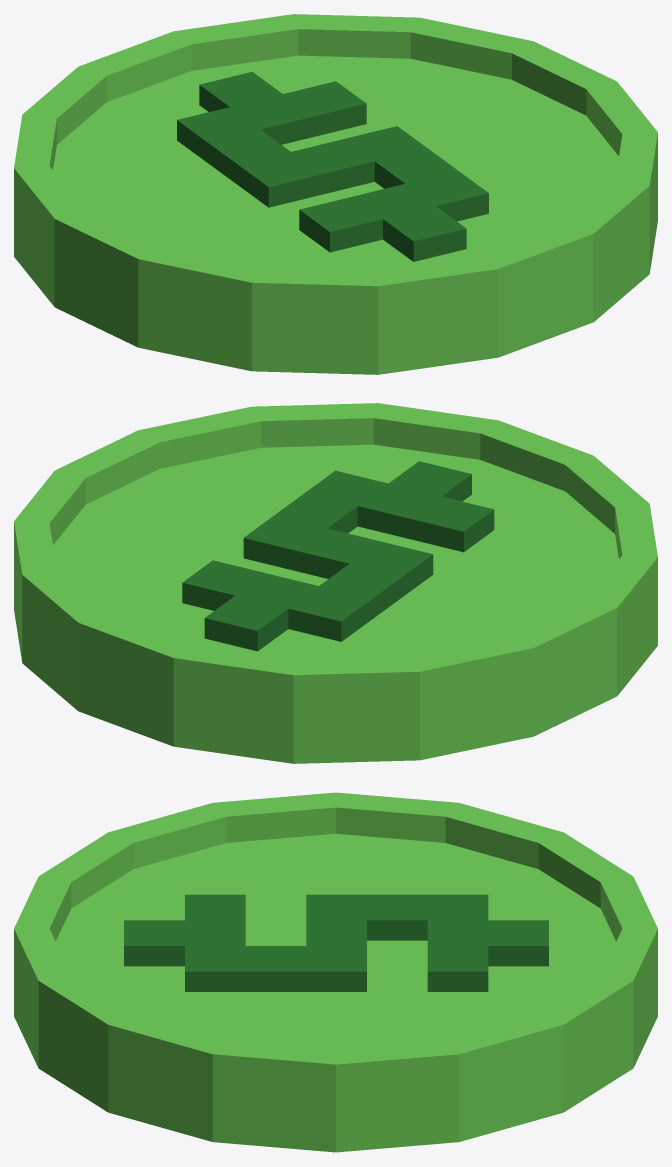
Rendered from Coin.fbx.
The picture shows the model from 3 angles, top to bottom: view 1: azimuth 30°, elevation 25°; view 2: azimuth 150°, elevation 25°; view 3: azimuth 270°, elevation 25°; orthographic projection.
Parts seen in each view (by area): view 1: Coin; view 2: Coin; view 3: Coin.
Part boxes in pixels (left/top/right/bottom): Coin: left=14, top=14, right=657, bottom=374; Coin: left=14, top=403, right=657, bottom=763; Coin: left=14, top=792, right=657, bottom=1152.
Bounding box in the file's own units: 1.32 × 0.1982 × 1.32.
